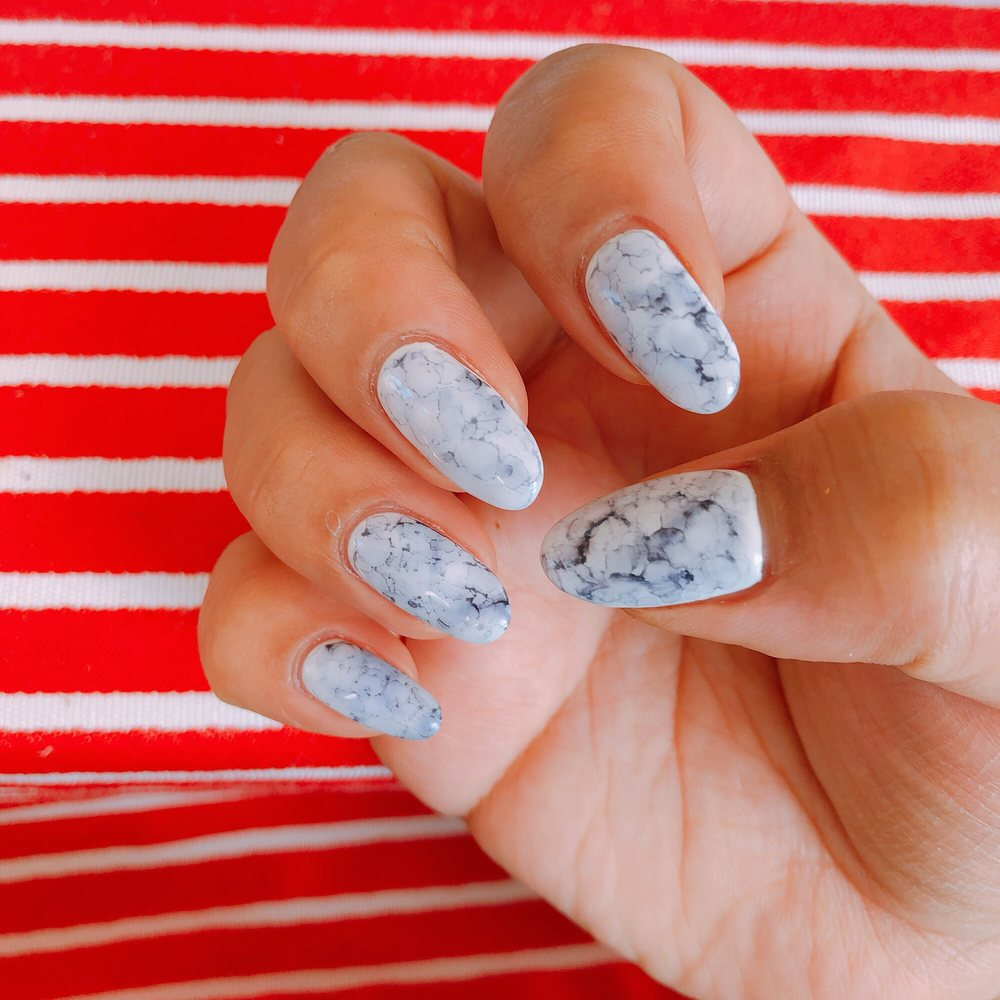nails: (571, 214, 757, 427), (534, 464, 770, 612), (371, 332, 551, 515), (335, 503, 518, 652), (289, 623, 449, 748)
